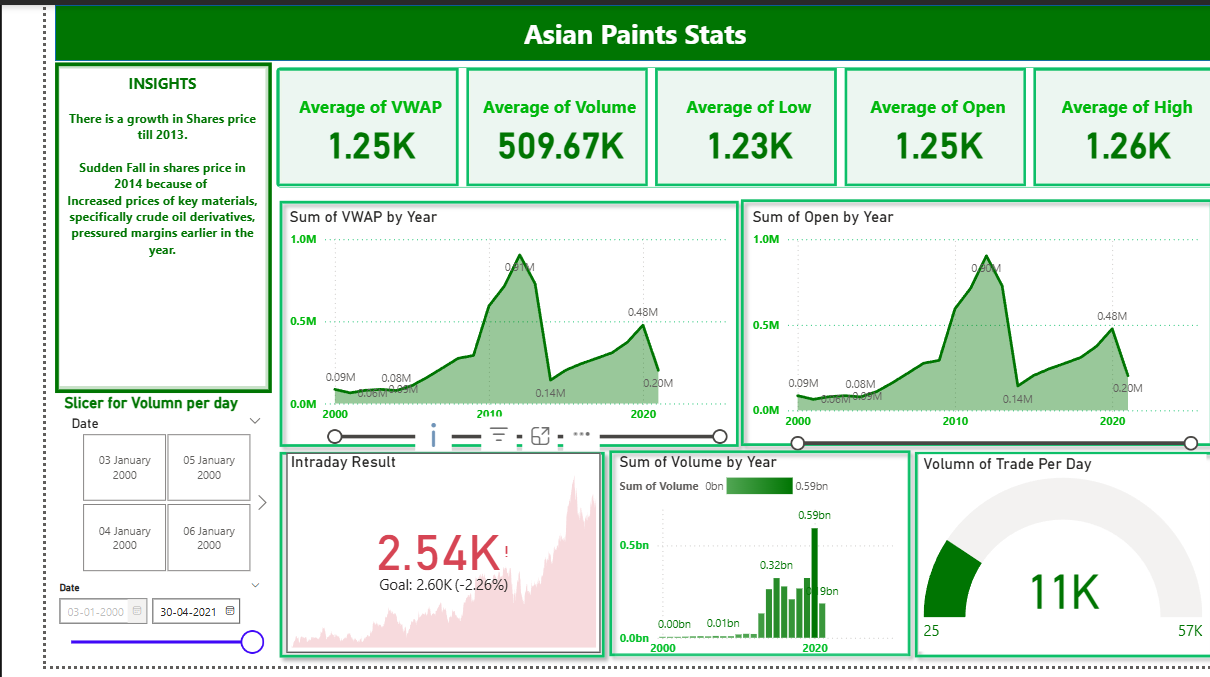

What the dashboard file says about the page in this screenshot:
{"tool":"powerbi","page":{"name":"Page 1","canvas":[1280,720],"ordinal":0},"visuals":[{"type":"slicer","fields":{"Values":["Asian_paints.Date"]},"box":[2,623,244,85],"z":0},{"type":"shape","box":[246,204,518,286],"z":1000},{"type":"areaChart","fields":{"Y":["Sum(Asian_paints.VWAP)"],"Category":["Asian_paints.Year"]},"box":[260,220,492.5,260],"z":2000},{"type":"shape","box":[748.3,203.3,531.7,286.7],"z":4000},{"type":"areaChart","fields":{"Category":["Asian_paints.Year"],"Y":["Sum(Asian_paints.Open)"]},"box":[763.8,220,501.2,267.5],"z":5000},{"type":"shape","box":[246,478,372,242],"z":6000},{"type":"kpi","title":"Intraday Result","fields":{"Indicator":["Sum(Asian_paints.Close)"],"TrendLine":["Asian_paints.Date"],"Goal":["Sum(Asian_paints.Open)"]},"box":[262.5,487.5,342.5,217.5],"z":7000},{"type":"shape","box":[604.5,476.1,345.9,242.1],"z":8000},{"type":"cardVisual","fields":{"Data":["Avg(Asian_paints.VWAP)","Avg(Asian_paints.Volume)","Avg(Asian_paints.Low)","Avg(Asian_paints.Open)","Avg(Asian_paints.High)"]},"box":[245.4,62.6,1034.5,141.7],"z":8500},{"type":"columnChart","fields":{"Y":["Sum(Asian_paints.Volume)"],"Category":["Asian_paints.Year"]},"box":[618.8,487.5,320,232.5],"z":9000},{"type":"shape","box":[937.3,478.2,342.7,241.8],"z":10000},{"type":"gauge","title":"Volumn of Trade Per Day","fields":{"Y":["Sum(Asian_paints.Volume)"],"MinValue":["Asian_paints.Min_volumn"],"MaxValue":["Asian_paints.Mid_volumn"]},"box":[950.9,490,313.6,214.5],"z":11000},{"type":"slicer","title":"Slicer for Volumn per day","fields":{"Values":["Asian_paints.Date"]},"box":[15,423.3,231.7,200],"z":12000},{"type":"shape","box":[9.9,0,1263.4,60.9],"z":13000},{"type":"shape","box":[10,62.5,236.2,360],"z":14000},{"type":"textbox","box":[15,70,224,346],"z":15000}]}

Visuals, with their boxes in screenshot pixels (x1, y1, x2, y2), scaled from the page's 1280x720 canvas onto the 1210x677 screenshot:
slicer - Asian_paints.Date: 2, 586, 233, 666
shape: 233, 192, 722, 461
areaChart - Sum(Asian_paints.VWAP) x Asian_paints.Year: 246, 207, 711, 451
shape: 707, 191, 1209, 461
areaChart - Asian_paints.Year x Sum(Asian_paints.Open): 722, 207, 1196, 458
shape: 233, 449, 584, 676
"Intraday Result" kpi: 248, 458, 572, 663
shape: 571, 448, 898, 675
cardVisual - Avg(Asian_paints.VWAP) x Avg(Asian_paints.Volume): 232, 59, 1209, 192
columnChart - Sum(Asian_paints.Volume) x Asian_paints.Year: 585, 458, 887, 676
shape: 886, 450, 1209, 676
"Volumn of Trade Per Day" gauge: 899, 461, 1195, 662
"Slicer for Volumn per day" slicer: 14, 398, 233, 586
shape: 9, 0, 1204, 57
shape: 9, 59, 233, 397
textbox: 14, 66, 226, 391
